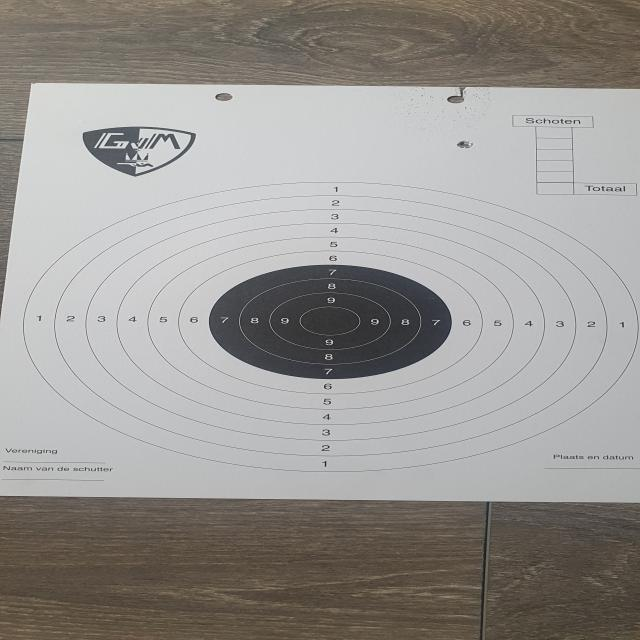0: (451, 141, 477, 149)
Target: (22, 182, 640, 476)
black_contour: (209, 264, 452, 381)
